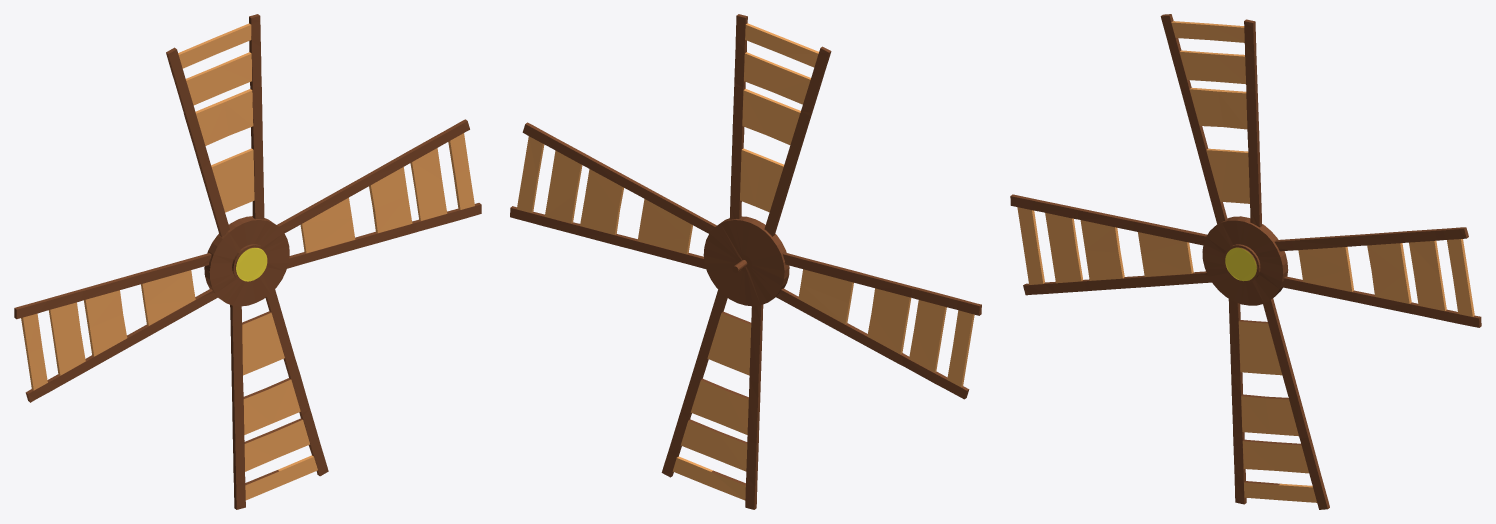
File: Windmill_propeller.gltf
3 views of the same model, side by side, from view 1: azimuth 30°, elevation 25°; view 2: azimuth 150°, elevation 25°; view 3: azimuth 330°, elevation 25° (orthographic).
Size of the model in its own units: 4.62 by 4.62 by 0.2781.
